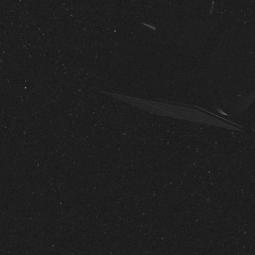cheops: (103, 10, 255, 120)
